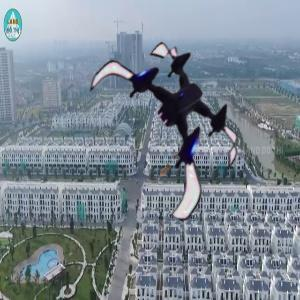drone: (83, 30, 254, 201)
